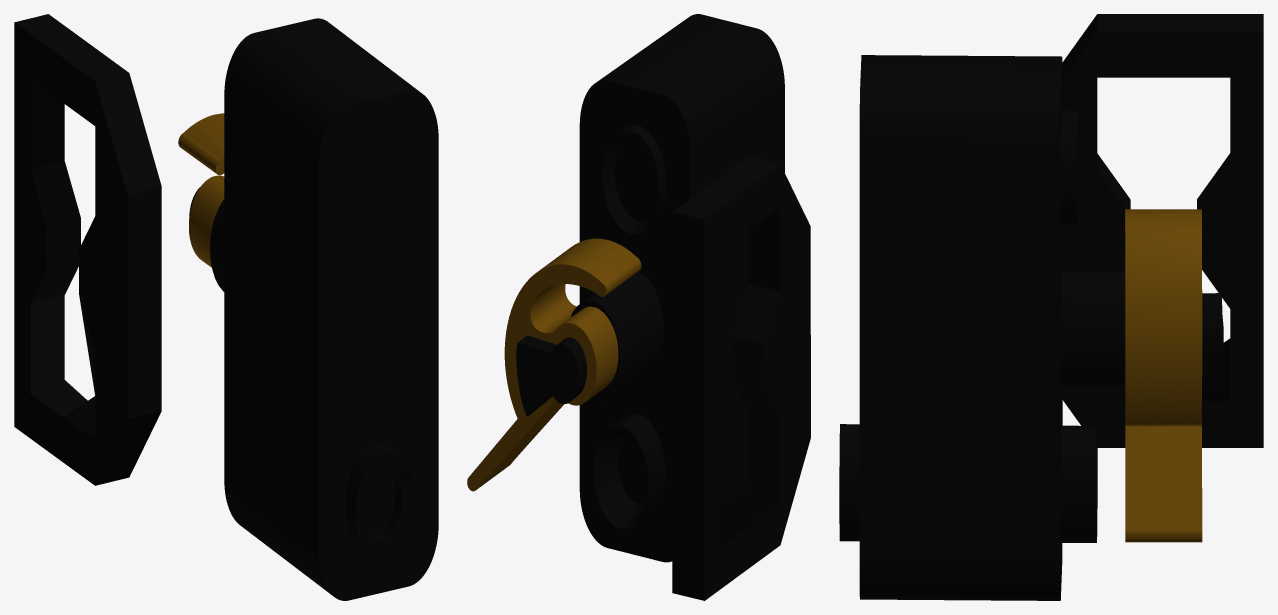
Rendered from CierreCaracol.fbx.
The picture shows the model from 3 angles, left to right: view 1: azimuth 30°, elevation 25°; view 2: azimuth 150°, elevation 25°; view 3: azimuth 270°, elevation 25°; orthographic projection. The views are drawn at different scales.
Parts seen in each view (by area): view 1: Cube.001, Cube.009, Cylinder.004, Curve, Cylinder.007; view 2: Cube.001, Cube.009, Curve, Cylinder.007, Cylinder.004, Curve.001, Cylinder.005; view 3: Cube.001, Cube.009, Curve, Cylinder.007, Cylinder.004, Curve.001, Cylinder.005.
Part boxes in pixels (x1,y1,x2,y2): Cube.001: [224, 18, 438, 600]; Cube.009: [14, 14, 161, 485]; Cylinder.004: [346, 443, 415, 561]; Curve: [178, 113, 224, 267]; Cylinder.007: [210, 199, 224, 291]; Cube.001: [579, 14, 784, 562]; Cube.009: [672, 156, 810, 600]; Curve: [467, 238, 641, 491]; Cylinder.007: [571, 271, 663, 404]; Cylinder.004: [593, 413, 665, 529]; Curve.001: [516, 335, 586, 416]; Cylinder.005: [602, 125, 666, 234]; Cube.001: [859, 55, 1062, 600]; Cube.009: [1062, 14, 1263, 447]; Curve: [1125, 209, 1202, 542]; Cylinder.007: [1061, 270, 1125, 387]; Cylinder.004: [839, 424, 1097, 542]; Curve.001: [1202, 293, 1223, 400]; Cylinder.005: [1061, 109, 1077, 226].
Bounding box in the file's own units: 14.88 × 24.98 × 18.8.
